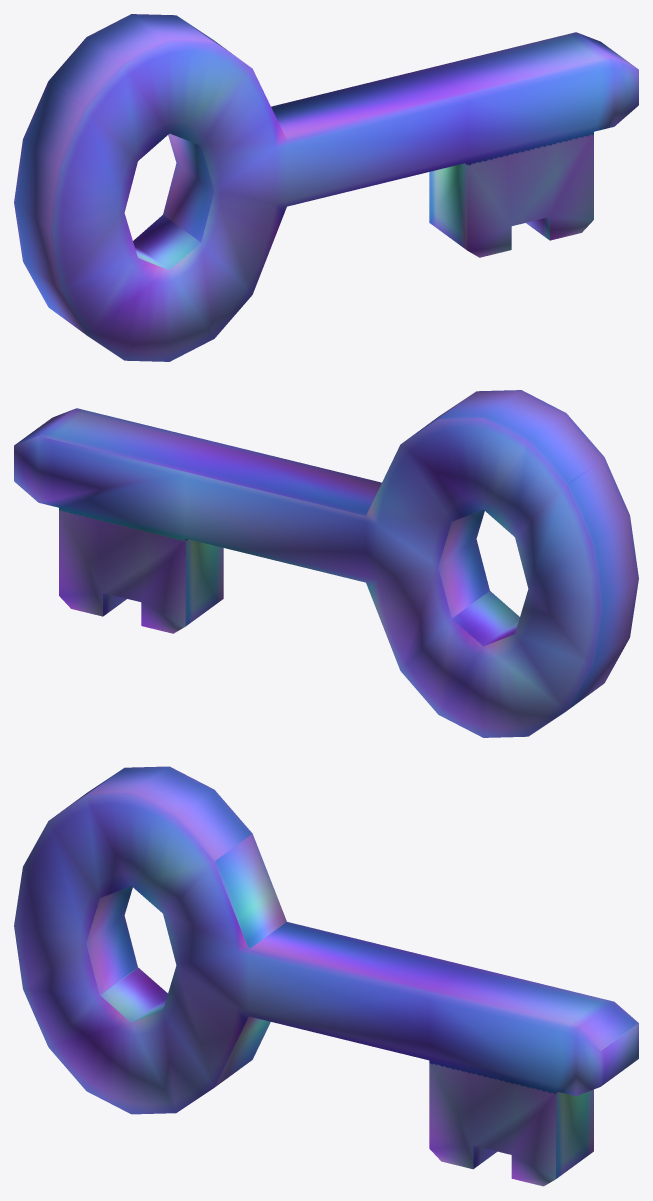
File: Key.fbx
The picture shows the model from 3 angles, top to bottom: view 1: azimuth 30°, elevation 25°; view 2: azimuth 150°, elevation 25°; view 3: azimuth 330°, elevation 25°; orthographic projection.
Parts seen in each view (by area): view 1: Low_Poly; view 2: Low_Poly; view 3: Low_Poly.
Boxes of the visible parts, x1,y1,x2,y2 form: Low_Poly: (14,14,638,361); Low_Poly: (14,390,638,737); Low_Poly: (14,766,638,1186).
Size of the model in its own units: 10 by 5.21 by 1.13.
